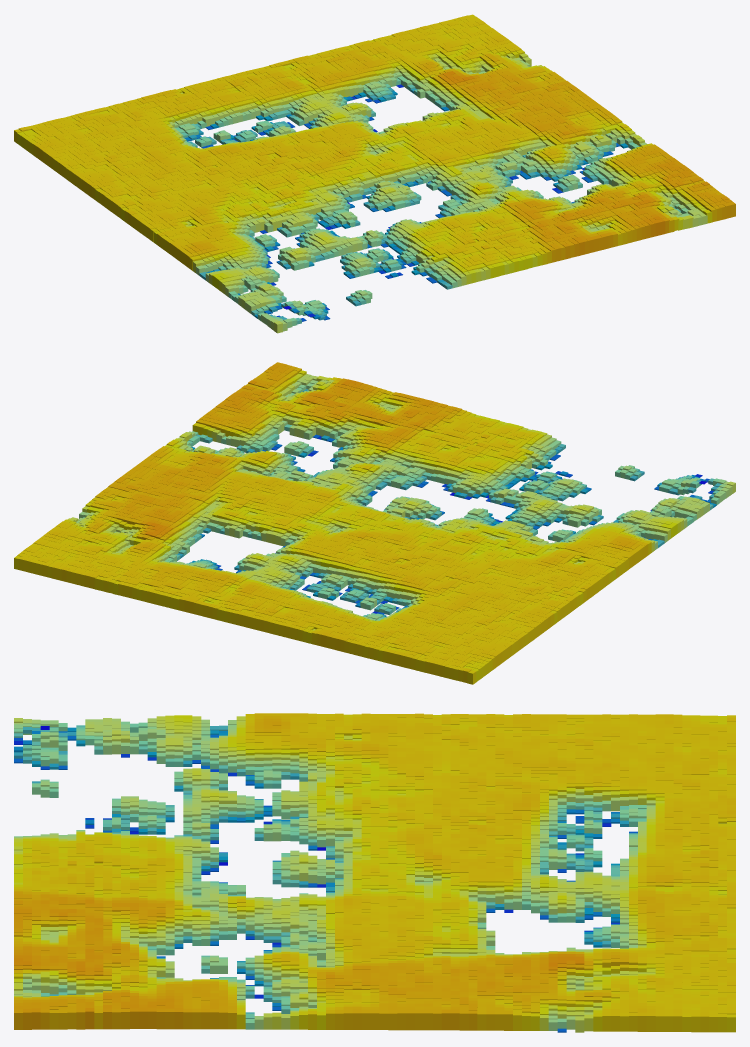
The model's file is population.glb.
3 renders of one model, top to bottom at view 1: azimuth 30°, elevation 25°; view 2: azimuth 150°, elevation 25°; view 3: azimuth 270°, elevation 25°, orthographic. The views are drawn at different scales.
Visible parts, largest first — view 1: population; view 2: population; view 3: population.
Boxes of the visible parts, x1,y1,x2,y2 form: population: (14,14,735,333); population: (14,362,735,684); population: (14,713,735,1032).
Size of the model in its own units: 8078 by 321 by 8022.
